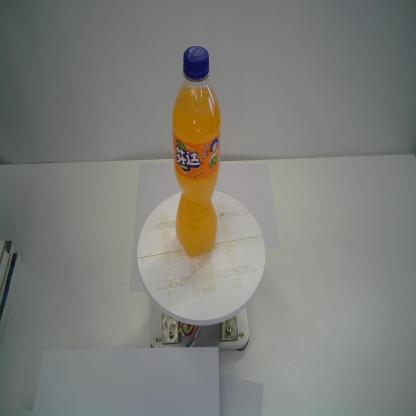Drink: (171, 44, 222, 260)
